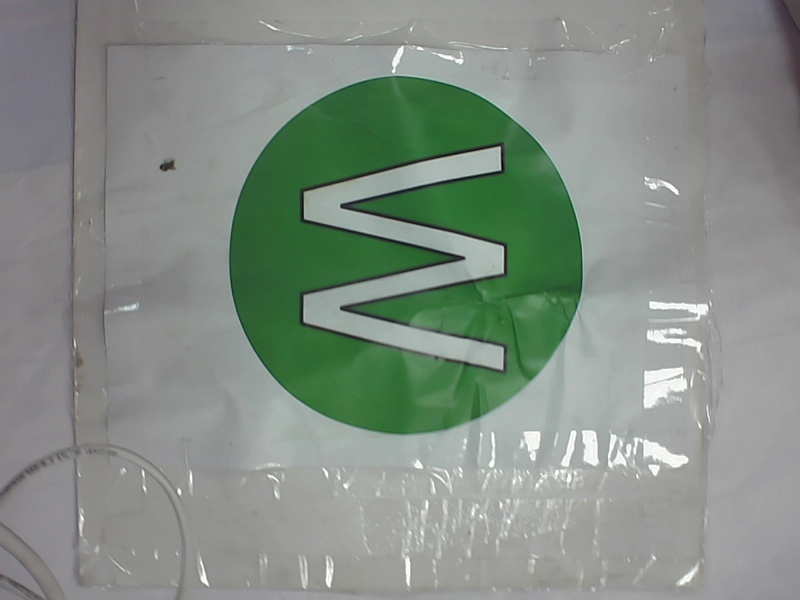areaB: (206, 69, 596, 455)
